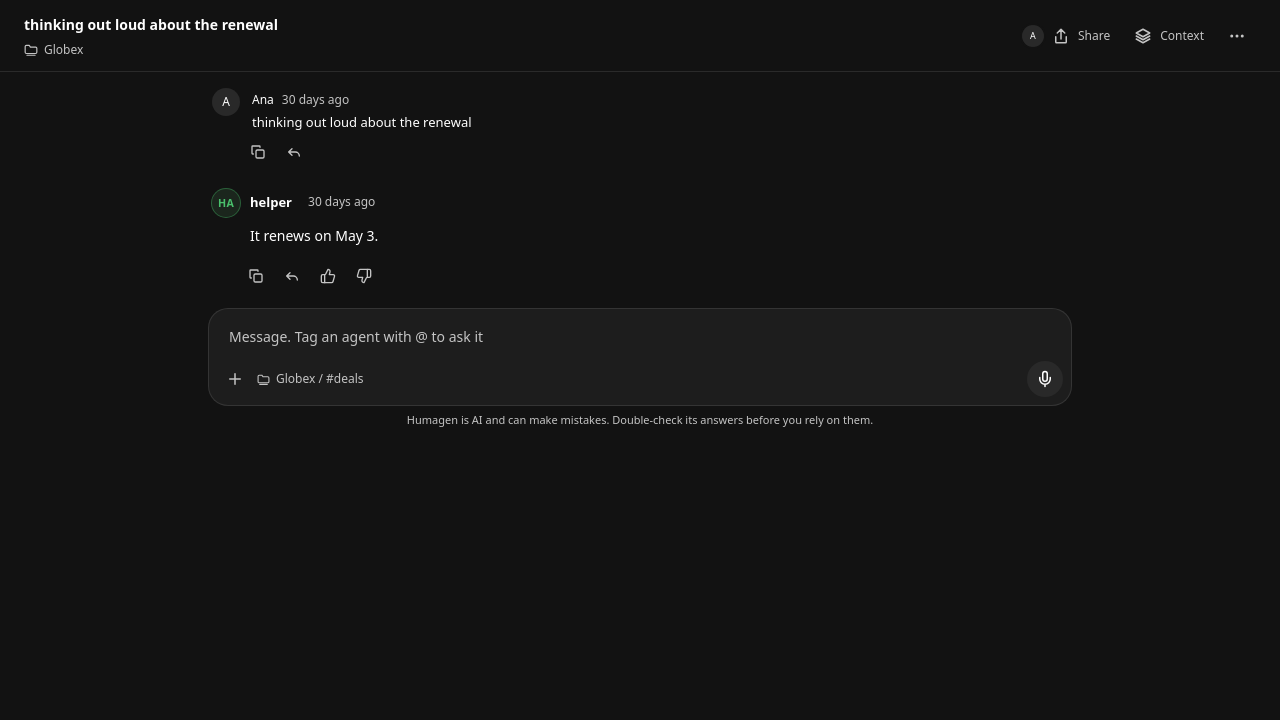
Test: Share preserves the selected channel and invalidates consent after a stale placement
Click the button "A Share" at (1066, 36), box [1012,18,1120,54]
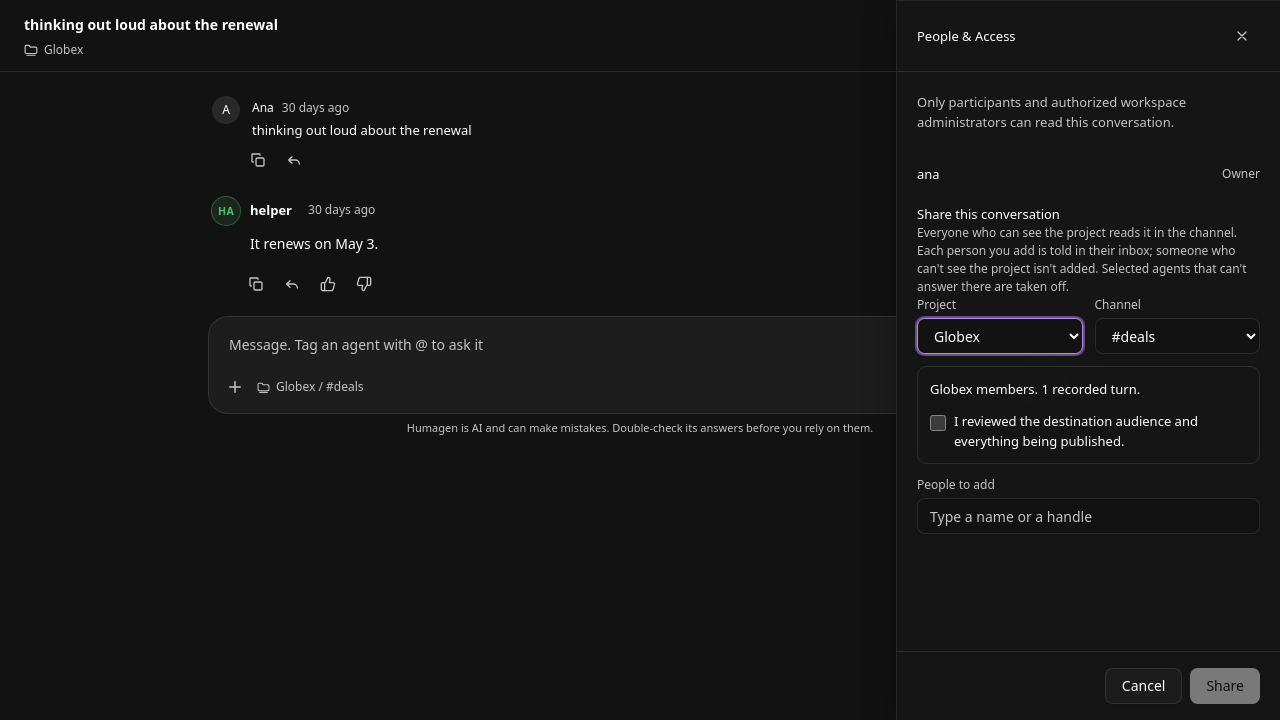
Click the checkbox labelled "I reviewed the destination audience and everything being published." at (938, 423), box [930,415,946,431]
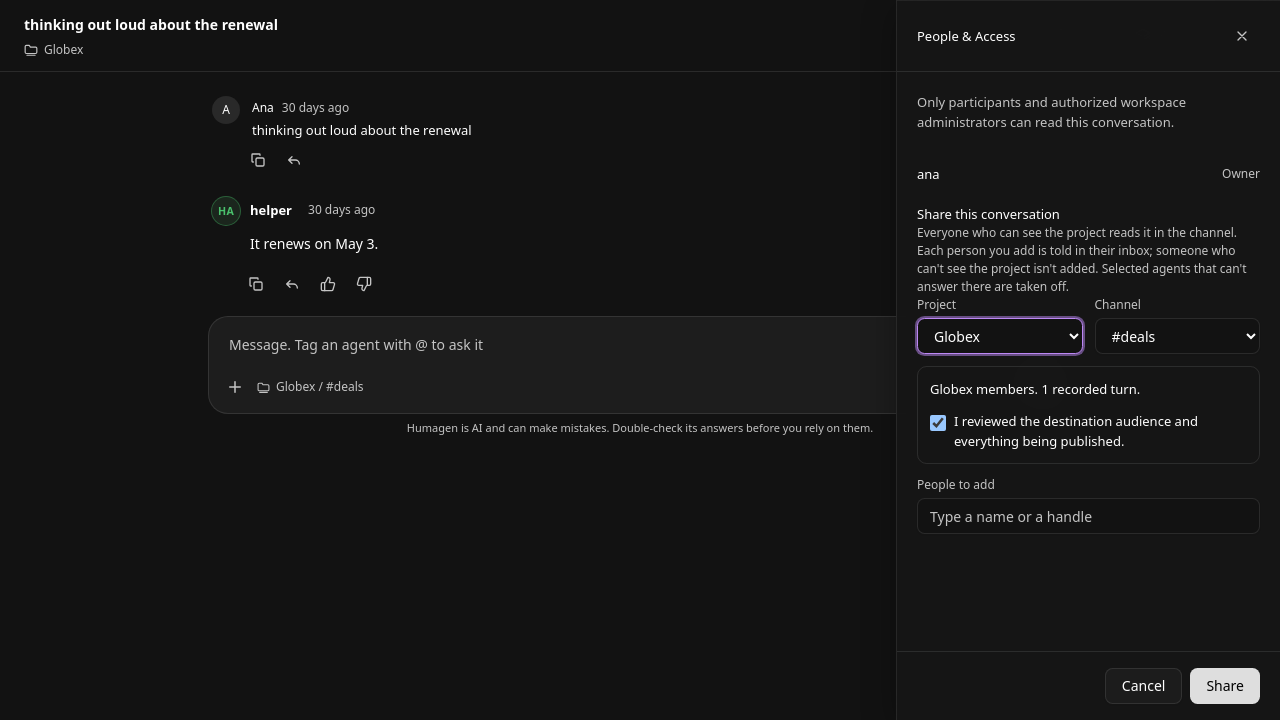
Click the button "Share" at (1225, 686), box [1190,668,1260,704]
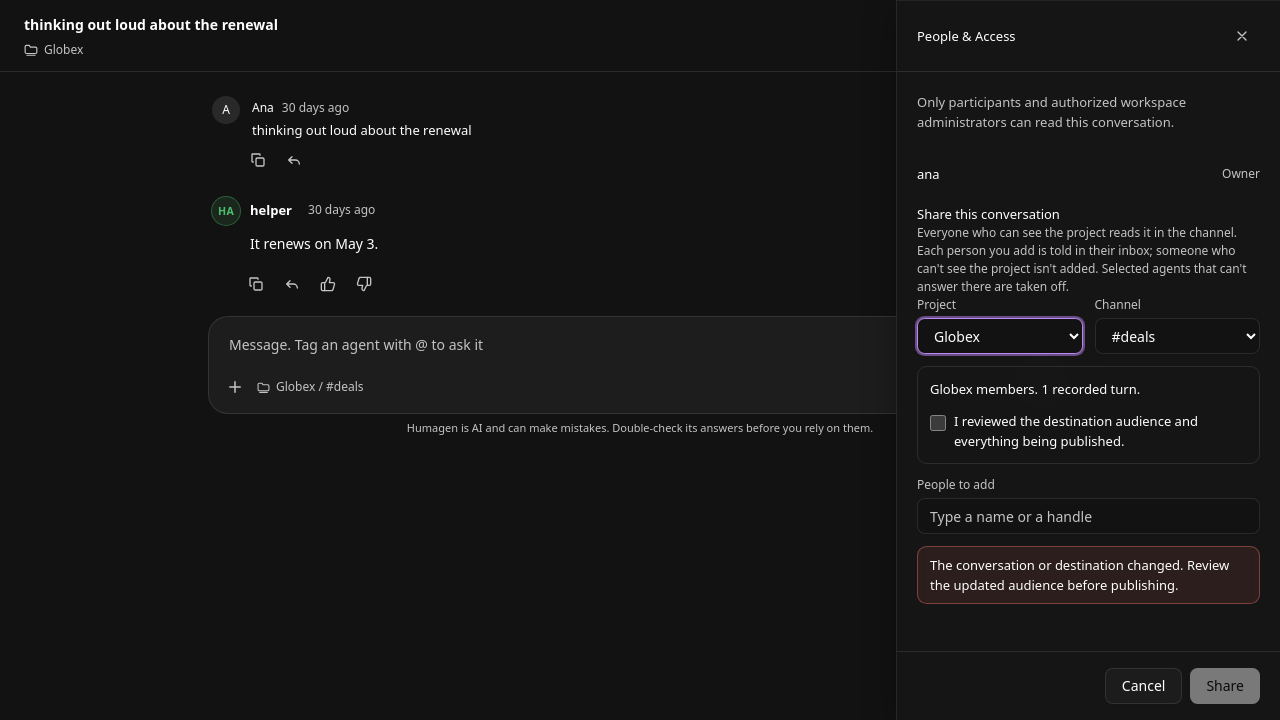
expect the text "The conversation or destination changed. Review the updated audience before publishing." is shown: met, box [930,556,1229,594]
